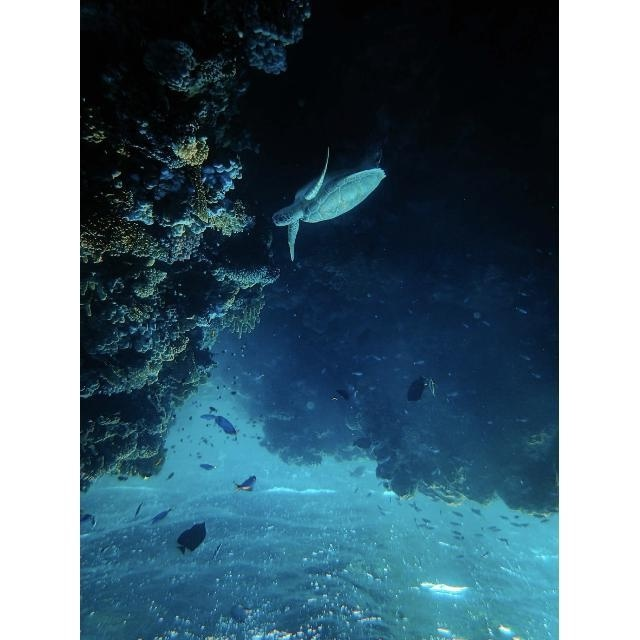turtle: (272, 143, 388, 263)
